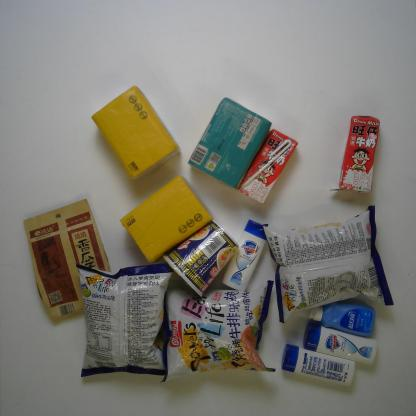Dried Food: (22, 198, 112, 321)
Instant Noodles: (161, 218, 240, 298)
Milk: (236, 128, 298, 204), (328, 115, 380, 194)
Personal Hygiene: (221, 219, 268, 292), (302, 321, 378, 366), (280, 343, 356, 387), (308, 300, 378, 338)
Puffed Food: (261, 204, 395, 325), (159, 279, 276, 384), (74, 262, 174, 378)
Tissue: (90, 85, 182, 180), (119, 174, 214, 263), (186, 96, 272, 190)
